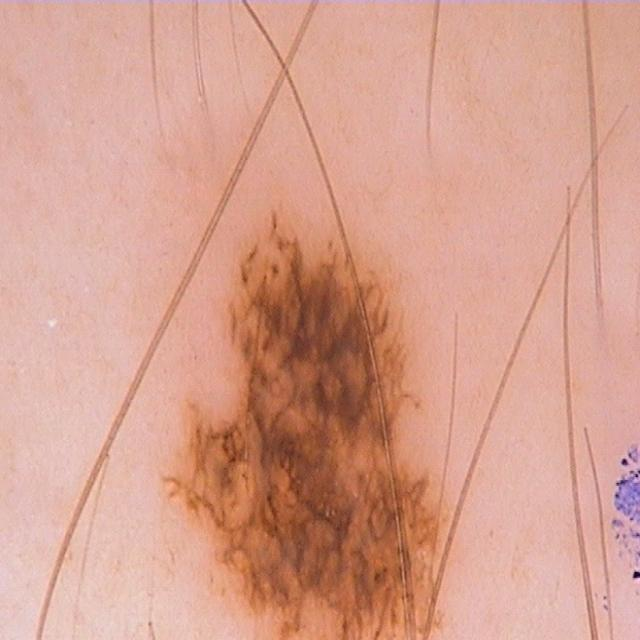Melanoma: (167, 192, 433, 640)
